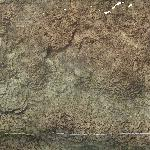dead: (1, 3, 146, 148)
